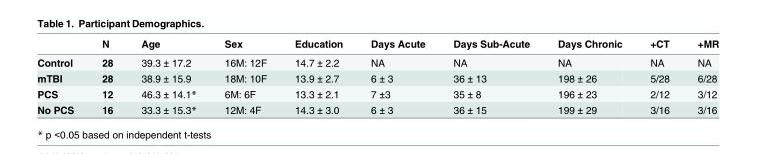table: (36, 37, 718, 115)
table column: (438, 37, 543, 115), (543, 37, 635, 115), (126, 37, 209, 115), (356, 37, 438, 115), (280, 37, 356, 115), (209, 37, 280, 115), (36, 37, 87, 115), (635, 37, 682, 115), (87, 37, 126, 115), (682, 37, 718, 115)
table column header: (36, 37, 718, 52)
table row: (36, 52, 718, 69), (36, 69, 718, 85), (36, 85, 718, 101), (36, 37, 718, 52), (36, 101, 718, 115)
